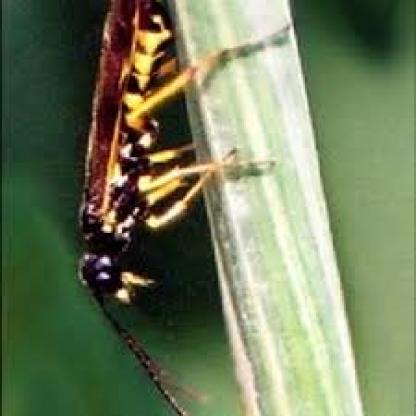sawfly: (76, 6, 304, 416)
